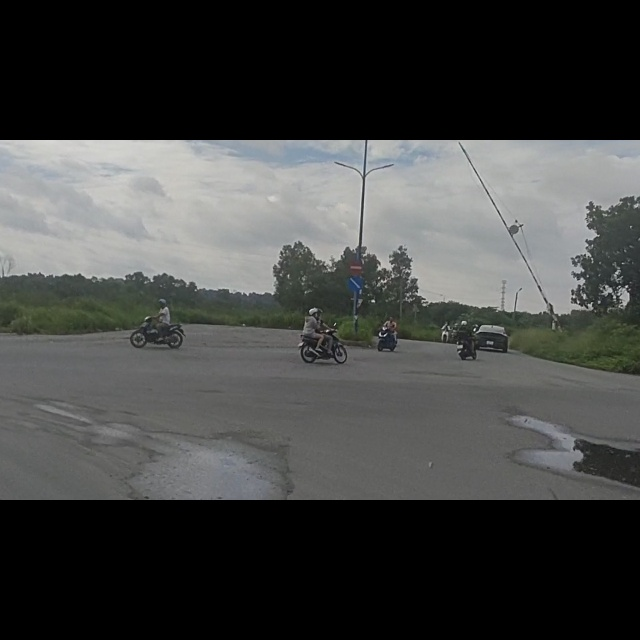bien_cam: (345, 241, 365, 271), (348, 211, 365, 239)
